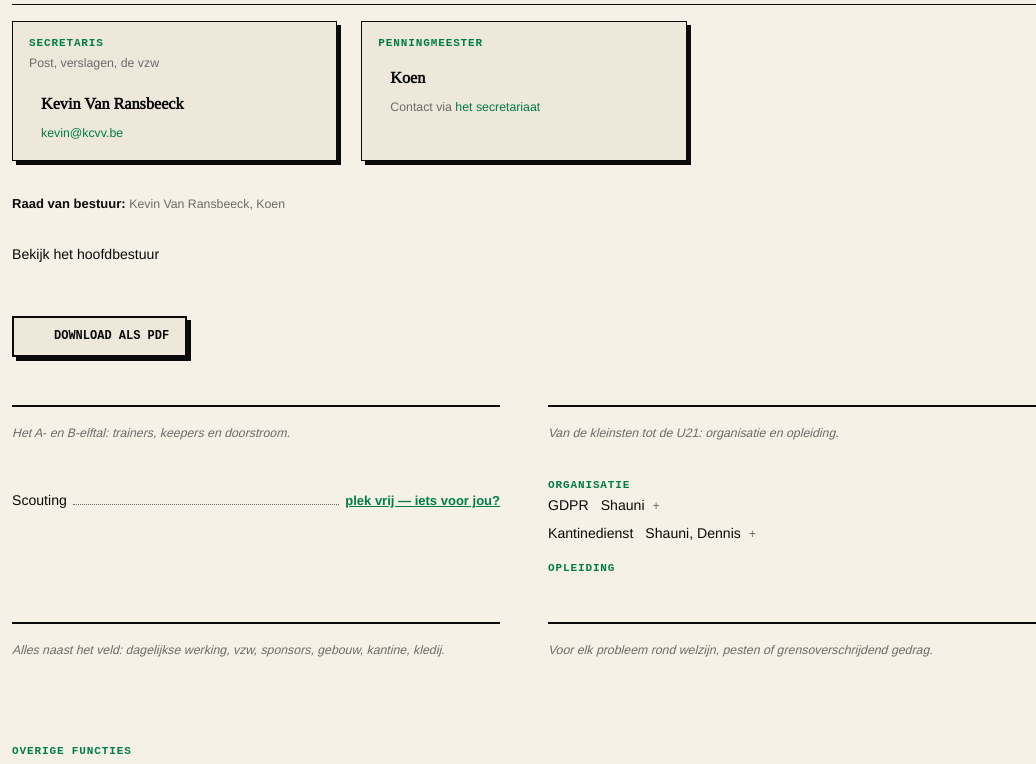
it: <ClubBook> › keeps a question off the other row of the same person
This screenshot has width=1036, height=764.
Click the text "Kantinedienst" at (591, 533), box [548, 525, 633, 541]
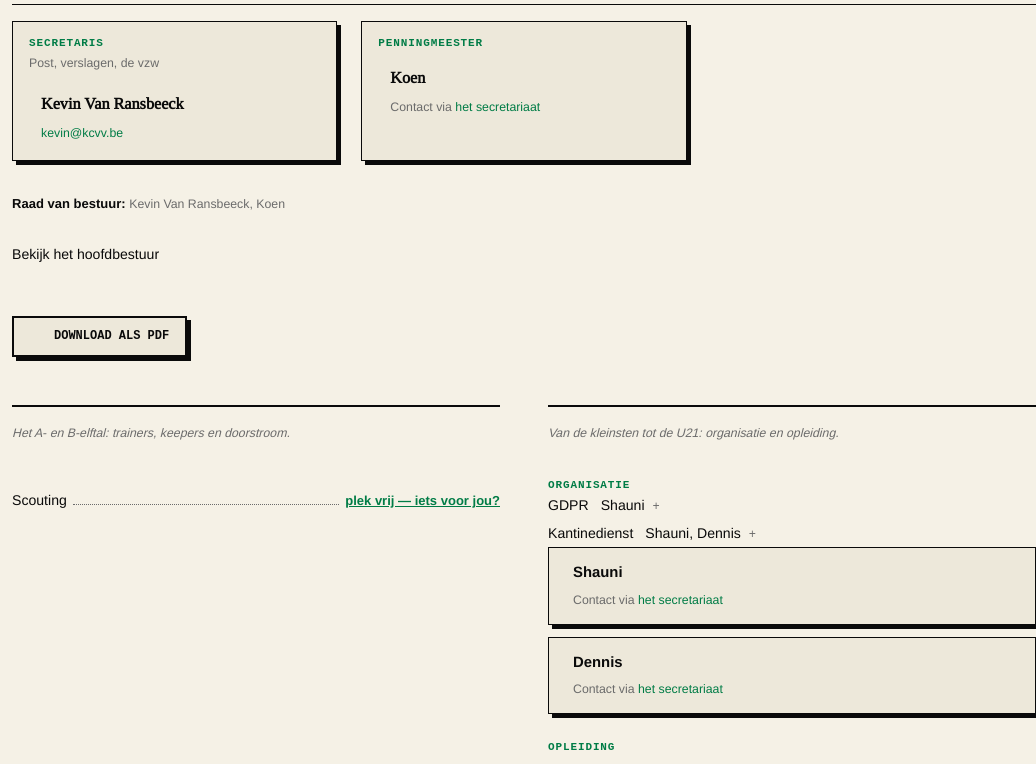
Result: the text "Contact via" is shown 2 times at [573, 590, 723, 612]; [573, 679, 723, 701]
